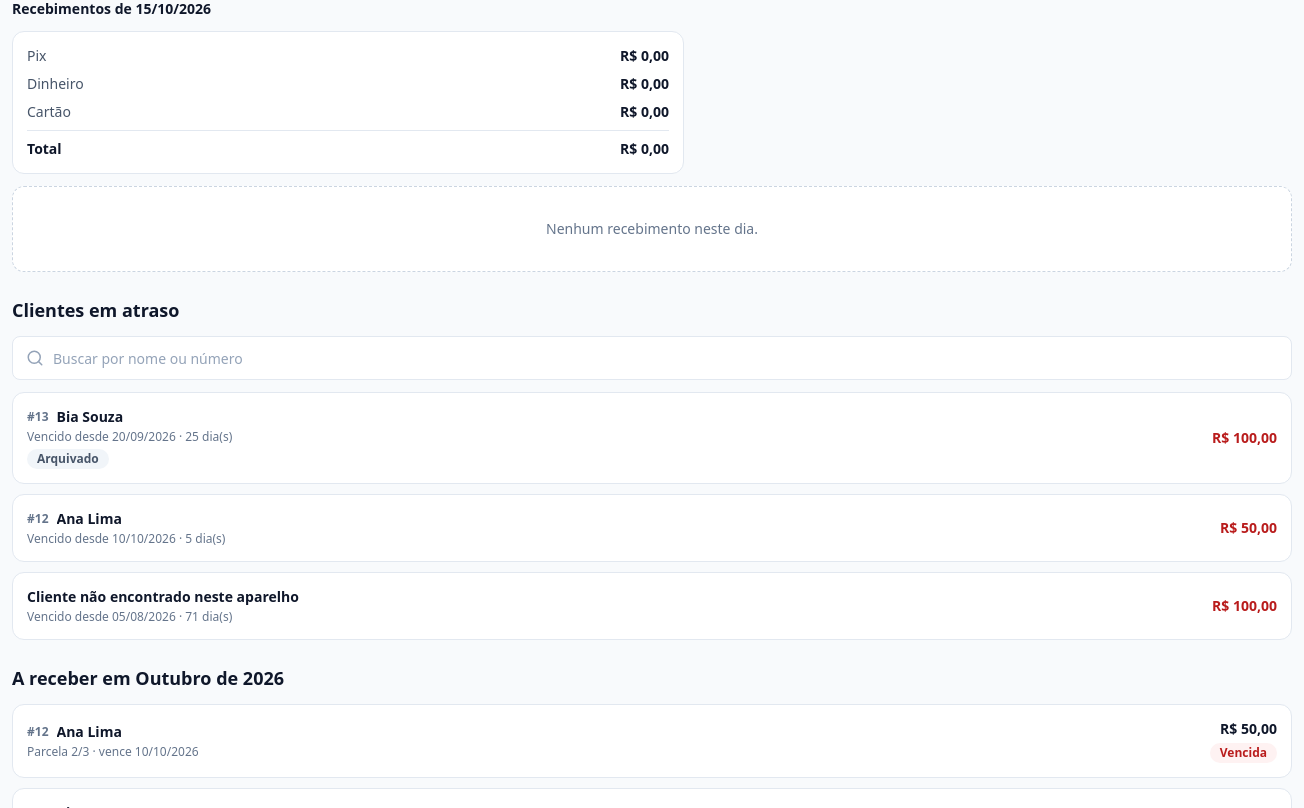
Test case: FinanceiroPage — busca › com termo, cliente fora do cache não aparece em nenhuma das listas, e a tela não quebra
(page scrolled)
Type "fantasma" into the search field labelled "Buscar por nome ou número" at (652, 358), box 12,336 -> 1292,380
(page scrolled)
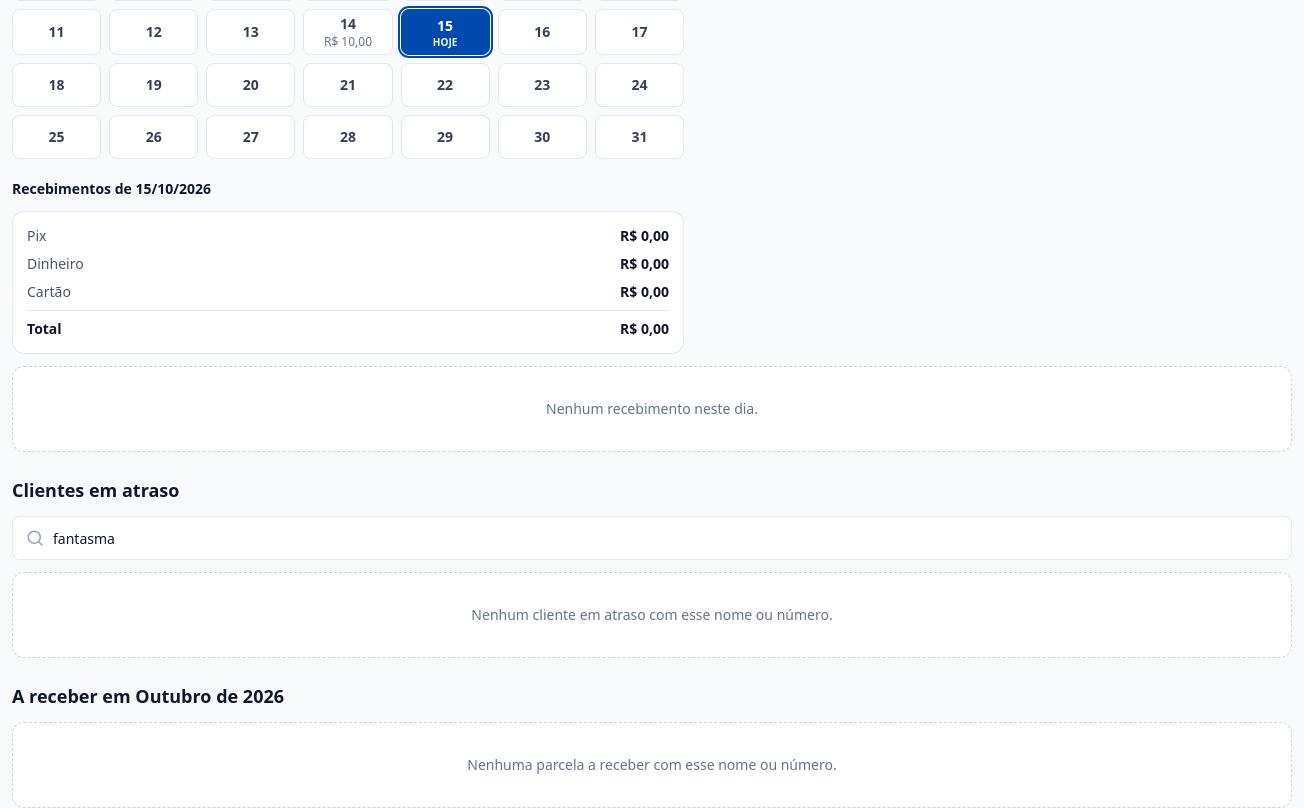
Result: no list items are shown
Result: the text "Nenhuma parcela a receber com esse nome ou número." is shown at 12,722 -> 1292,807
